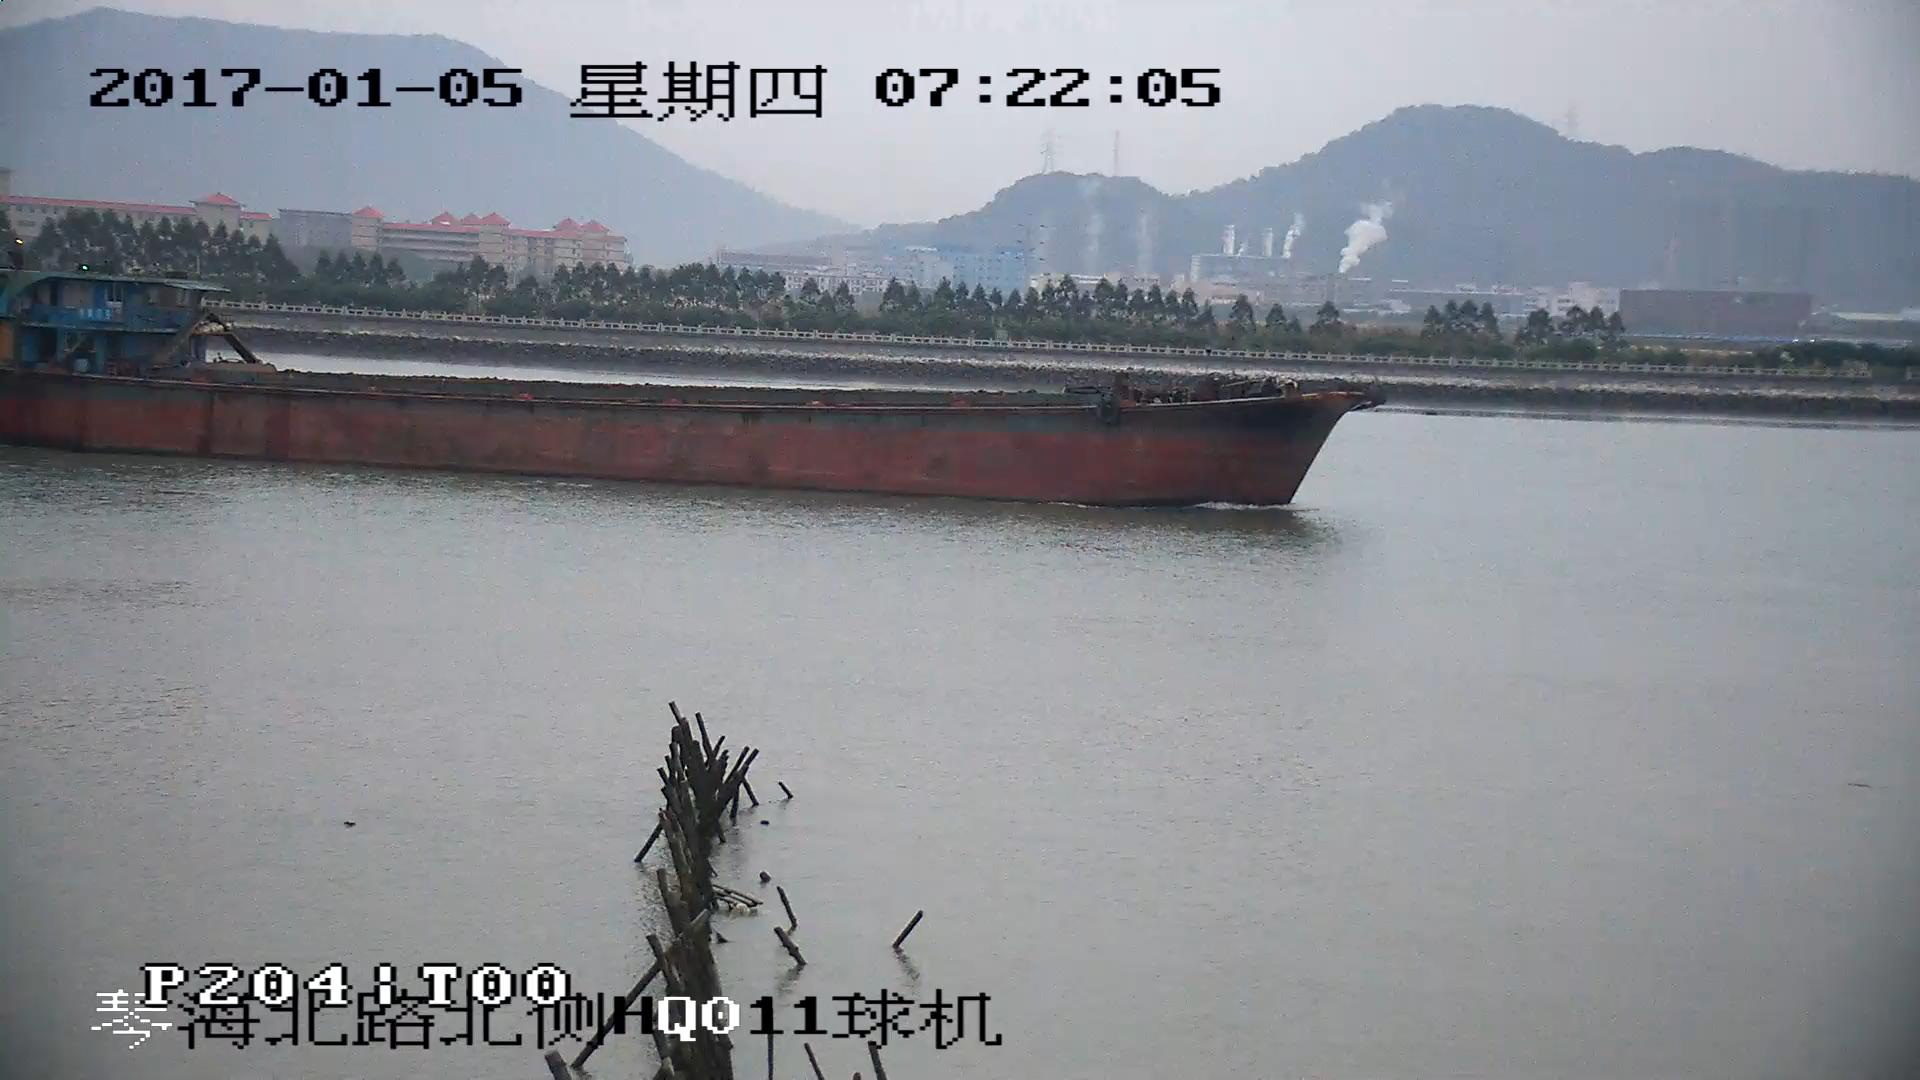bulk cargo carrier: (1, 269, 1382, 508)
